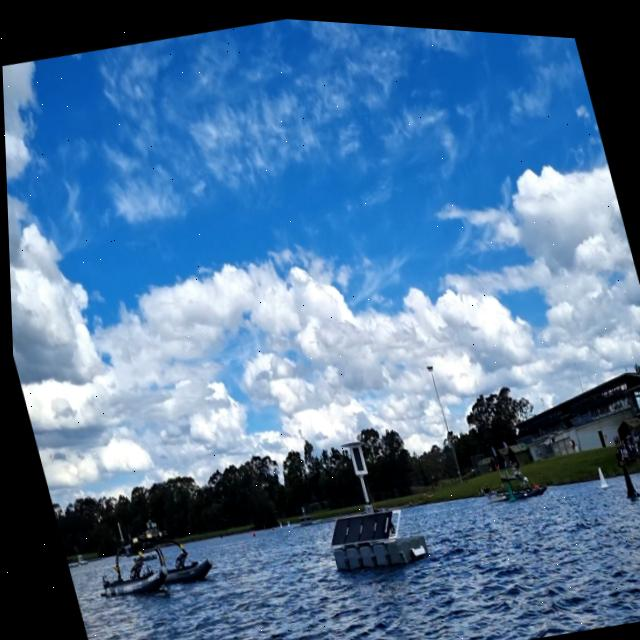led: (346, 438, 363, 469)
